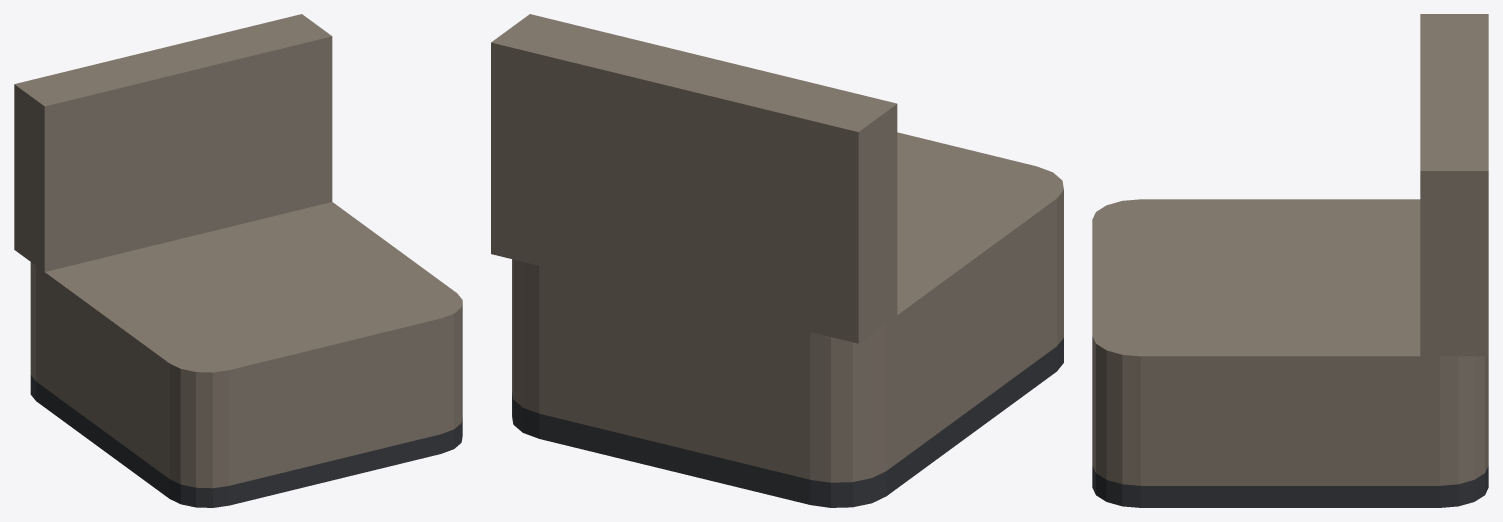
The model's file is lounge_armchair.glb.
3 views of the same model, side by side, from view 1: azimuth 30°, elevation 25°; view 2: azimuth 150°, elevation 25°; view 3: azimuth 270°, elevation 25° (orthographic). The views are drawn at different scales.
Size of the model in its own units: 0.762 by 0.762 by 0.8128.
